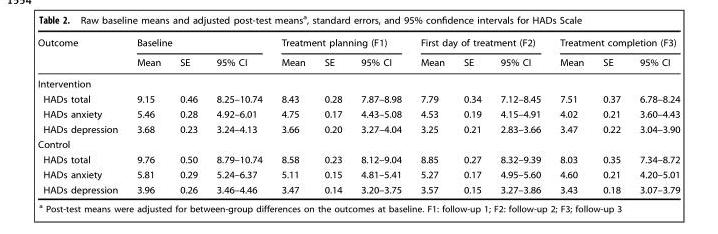table: (37, 36, 679, 194)
table column: (37, 36, 126, 194), (206, 36, 271, 194), (350, 36, 410, 194), (490, 36, 549, 194), (629, 36, 679, 194), (126, 36, 169, 194), (271, 36, 314, 194), (410, 36, 453, 194), (549, 36, 592, 194), (169, 36, 206, 194), (453, 36, 490, 194), (592, 36, 629, 194), (314, 36, 350, 194)
table column header: (37, 36, 679, 72)
table projected row header: (37, 72, 679, 91), (37, 136, 679, 151)
table row: (37, 52, 679, 72), (37, 72, 679, 91), (37, 36, 679, 52), (37, 91, 679, 106), (37, 106, 679, 121), (37, 121, 679, 136), (37, 136, 679, 151), (37, 151, 679, 166), (37, 166, 679, 181), (37, 181, 679, 194)
table spanning cell: (37, 36, 126, 72), (126, 36, 271, 52), (271, 36, 410, 52), (410, 36, 549, 52), (549, 36, 679, 52)
